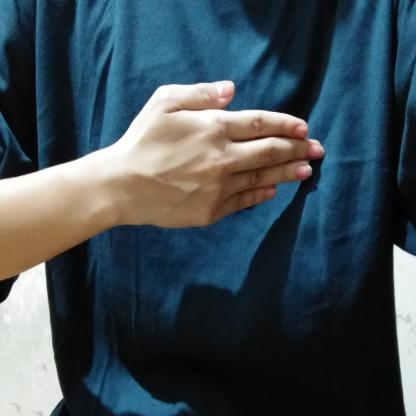ready: (104, 74, 328, 236)
